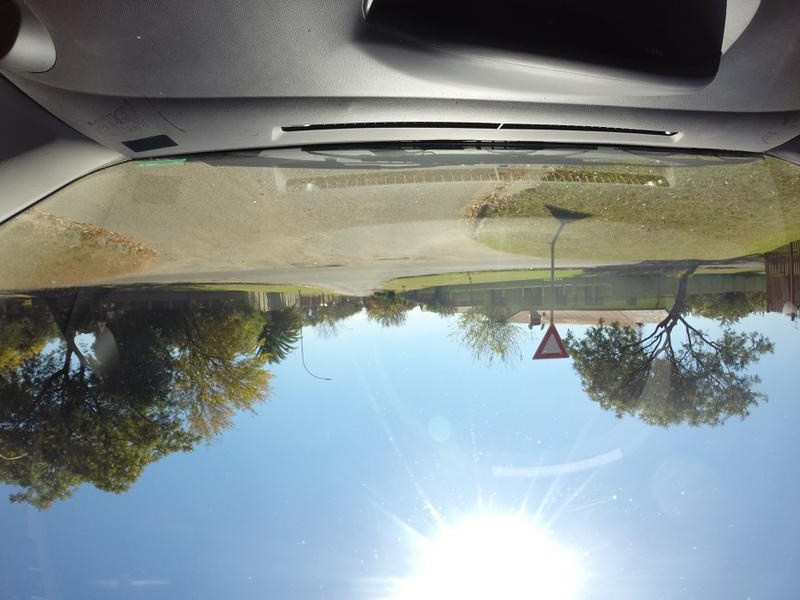pothole: (299, 262, 345, 267), (371, 258, 407, 263)
